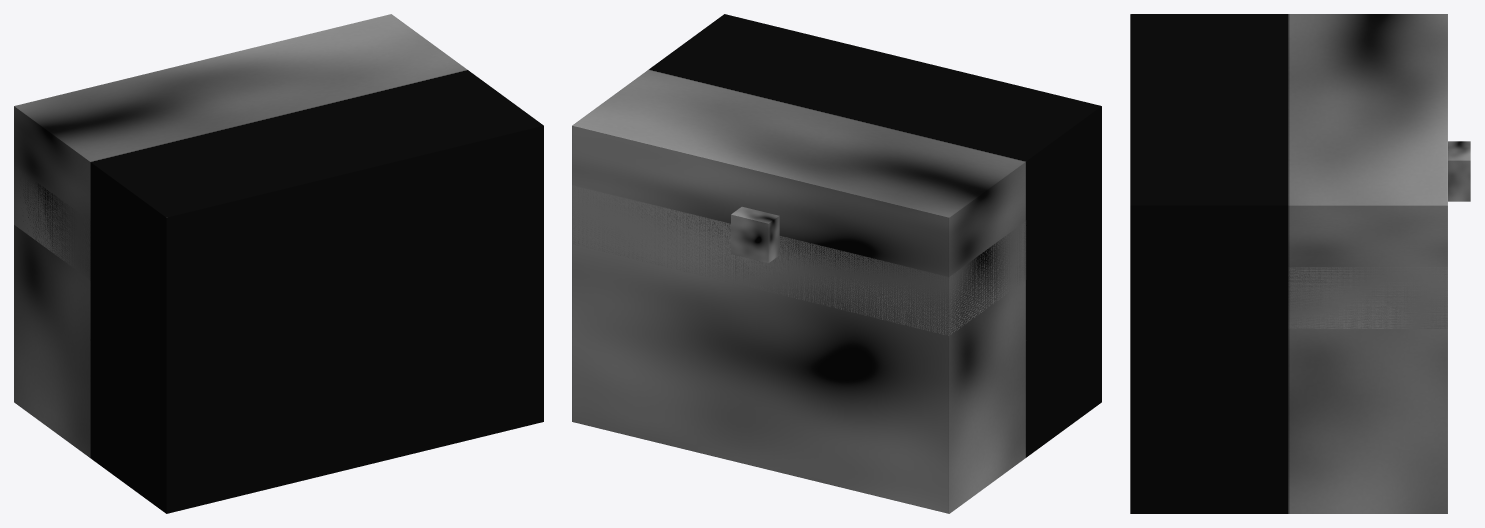
File: chest.glb
3 renders of one model, left to right at view 1: azimuth 30°, elevation 25°; view 2: azimuth 150°, elevation 25°; view 3: azimuth 270°, elevation 25°, orthographic. The views are drawn at different scales.
Parts seen in each view (by area): view 1: chest; view 2: chest; view 3: chest.
Boxes of the visible parts, x1,y1,x2,y2 form: chest: [14, 14, 543, 513]; chest: [572, 14, 1101, 513]; chest: [1130, 14, 1470, 513].
Size of the model in its own units: 0.5 by 0.375 by 0.375.
1 material, 1 textured.
